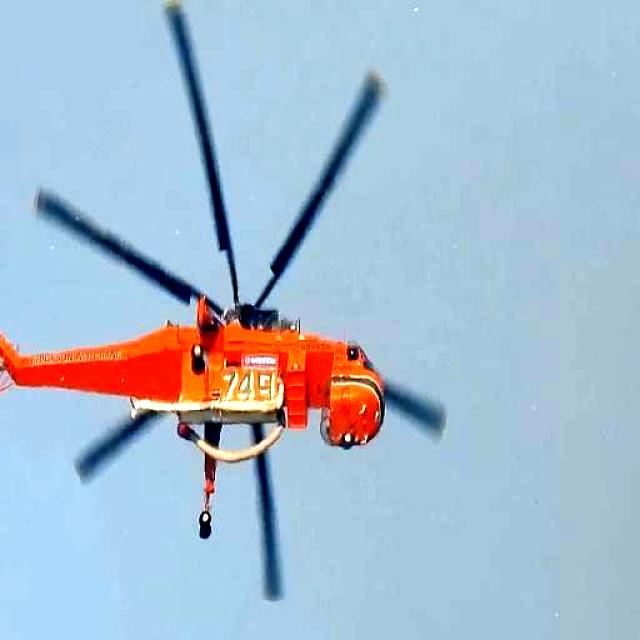drone: (0, 0, 442, 562)
